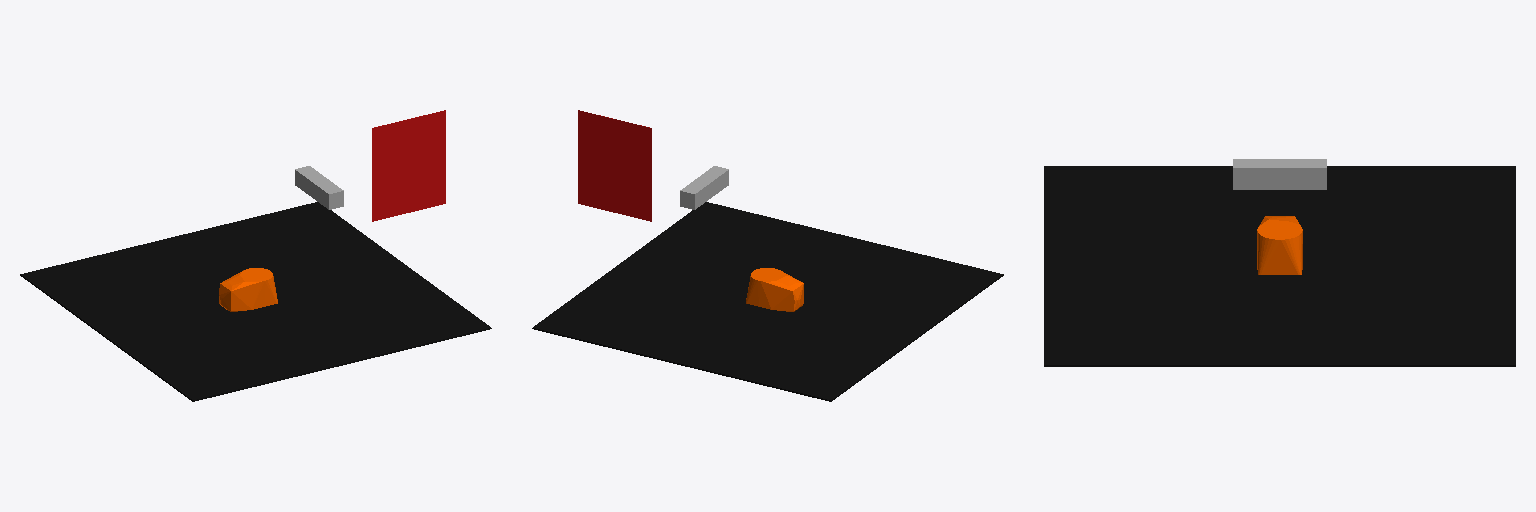
The robot description file, URDF, robot "irb_120_s":
<?xml version="1.0" ?>
<!-- =================================================================================== -->
<!-- |    This document was autogenerated by xacro from irb_120_s.xacro                | -->
<!-- |    EDITING THIS FILE BY HAND IS NOT RECOMMENDED                                 | -->
<!-- =================================================================================== -->
<robot name="irb_120_s" xmlns:xacro="http://ros.org/wiki/xacro">
  <link name="base_link">
    <visual>
      <origin rpy="0 0 0" xyz="0 0 0"/>
      <geometry>
        <mesh filename="package://abb_common/meshes/irb_120/visual/base_link.stl"/>
      </geometry>
      <material name="abb_orange">
        <color rgba="1 0.43 0 1"/>
      </material>
    </visual>
    <collision>
      <geometry>
        <mesh filename="package://abb_common/meshes/irb_120/collision/base_link.stl"/>
      </geometry>
      <material name="yellow">
        <color rgba="0 1 1 1"/>
      </material>
    </collision>
  </link>
  <link name="link_1">
    <visual>
      <origin rpy="0 0 0" xyz="0 0 0"/>
      <geometry>
        <mesh filename="package://abb_common/meshes/irb_120/visual/link_1.stl"/>
      </geometry>
      <material name="abb_orange"/>
    </visual>
    <collision>
      <origin rpy="0 0 0" xyz="0 0 0"/>
      <geometry>
        <mesh filename="package://abb_common/meshes/irb_120/collision/link_1.stl"/>
      </geometry>
      <material name="yellow"/>
    </collision>
  </link>
  <link name="link_2">
    <visual>
      <origin rpy="0 0 0" xyz="0 0 0"/>
      <geometry>
        <mesh filename="package://abb_common/meshes/irb_120/visual/link_2.stl"/>
      </geometry>
      <material name="abb_orange"/>
    </visual>
    <collision>
      <origin rpy="0 0 0" xyz="0 0 0"/>
      <geometry>
        <mesh filename="package://abb_common/meshes/irb_120/collision/link_2.stl"/>
      </geometry>
      <material name="yellow"/>
    </collision>
  </link>
  <link name="link_3">
    <visual>
      <origin rpy="0 0 0" xyz="0 0 0"/>
      <geometry>
        <mesh filename="package://abb_common/meshes/irb_120/visual/link_3.stl"/>
      </geometry>
      <material name="abb_orange"/>
    </visual>
    <collision>
      <origin rpy="0 0 0" xyz="0 0 0"/>
      <geometry>
        <mesh filename="package://abb_common/meshes/irb_120/collision/link_3.stl"/>
      </geometry>
      <material name="yellow"/>
    </collision>
  </link>
  <link name="link_4">
    <visual>
      <origin rpy="0 0 0" xyz="0 0 0"/>
      <geometry>
        <mesh filename="package://abb_common/meshes/irb_120/visual/link_4.stl"/>
      </geometry>
      <material name="abb_orange"/>
    </visual>
    <collision>
      <origin rpy="0 0 0" xyz="0 0 0"/>
      <geometry>
        <mesh filename="package://abb_common/meshes/irb_120/collision/link_4.stl"/>
      </geometry>
      <material name="yellow"/>
    </collision>
  </link>
  <link name="link_5">
    <visual>
      <origin rpy="0 0 0" xyz="0 0 0"/>
      <geometry>
        <mesh filename="package://abb_common/meshes/irb_120/visual/link_5.stl"/>
      </geometry>
      <material name="abb_orange"/>
    </visual>
    <collision>
      <origin rpy="0 0 0" xyz="0 0 0"/>
      <geometry>
        <mesh filename="package://abb_common/meshes/irb_120/collision/link_5.stl"/>
      </geometry>
      <material name="yellow"/>
    </collision>
  </link>
  <link name="link_6">
    <visual>
      <origin rpy="0 0 0" xyz="0 0 0"/>
      <geometry>
        <mesh filename="package://abb_common/meshes/irb_120/visual/link_6.stl"/>
      </geometry>
      <material name="abb_orange"/>
    </visual>
    <collision>
      <origin rpy="0 0 0" xyz="0 0 0"/>
      <geometry>
        <mesh filename="package://abb_common/meshes/irb_120/collision/link_6.stl"/>
      </geometry>
      <material name="yellow"/>
    </collision>
  </link>
  <link name="tool0"/>
  <joint name="joint_1" type="revolute">
    <origin rpy="0 0 0" xyz="0 0 0"/>
    <parent link="base_link"/>
    <child link="link_1"/>
    <axis xyz="0 0 1"/>
    <limit effort="0" lower="-3.1416" upper="3.1416" velocity="2.618"/>
    <calibration falling="0" rising="0"/>
    <dynamics damping="0" friction="0"/>
  </joint>
  <joint name="joint_2" type="revolute">
    <origin rpy="0 0 0" xyz="0 0 0.29"/>
    <parent link="link_1"/>
    <child link="link_2"/>
    <axis xyz="0 1 0"/>
    <limit effort="0" lower="-1.7453" upper="1.9199" velocity="2.618"/>
    <calibration falling="0" rising="0"/>
    <dynamics damping="0" friction="0"/>
  </joint>
  <joint name="joint_3" type="revolute">
    <origin rpy="0 0 0" xyz="0 0 0.27"/>
    <parent link="link_2"/>
    <child link="link_3"/>
    <axis xyz="0 1 0"/>
    <limit effort="0" lower="-1.0472" upper="1.1345" velocity="2.618"/>
    <calibration falling="0" rising="0"/>
    <dynamics damping="0" friction="0"/>
  </joint>
  <joint name="joint_4" type="revolute">
    <origin rpy="0 0 0" xyz="0 0 0.07"/>
    <parent link="link_3"/>
    <child link="link_4"/>
    <axis xyz="1 0 0"/>
    <limit effort="0" lower="-3.49" upper="3.49" velocity="6.2832"/>
    <calibration falling="0" rising="0"/>
    <dynamics damping="0" friction="0"/>
  </joint>
  <joint name="joint_5" type="revolute">
    <origin rpy="0 0 0" xyz="0.302 0 0"/>
    <parent link="link_4"/>
    <child link="link_5"/>
    <axis xyz="0 1 0"/>
    <limit effort="0" lower="-2.0944" upper="2.0944" velocity="6.2832"/>
    <calibration falling="0" rising="0"/>
    <dynamics damping="0" friction="0"/>
  </joint>
  <joint name="joint_6" type="revolute">
    <origin rpy="0 0 0" xyz="0.072 0 0"/>
    <parent link="link_5"/>
    <child link="link_6"/>
    <axis xyz="1 0 0"/>
    <limit effort="0" lower="-6.9813" upper="6.9813" velocity="7.854"/>
    <calibration falling="0" rising="0"/>
    <dynamics damping="0" friction="0"/>
  </joint>
  <joint name="joint_6-tool0" type="fixed">
    <parent link="link_6"/>
    <child link="tool0"/>
    <origin rpy="0 0 0" xyz="0 0 0"/>
  </joint>
  <link name="link_wp">
    <visual>
      <geometry>
        <box size="2 2 0.01"/>
      </geometry>
      <material name="black">
        <color rgba="0.1 0.1 0.1 1"/>
      </material>
      <origin xyz="0 0 0"/>
    </visual>
    <collision>
      <geometry>
        <box size="2 2 0.01"/>
      </geometry>
      <origin xyz="0 0 0"/>
    </collision>
  </link>
  <joint name="joint_wp2b" type="fixed">
    <parent link="link_wp"/>
    <child link="base_link"/>
    <origin xyz="0 0 0"/>
  </joint>
  <link name="link_scanner">
    <visual>
      <geometry>
        <box size="0.1 0.4 0.1"/>
      </geometry>
      <material name="silver">
        <color rgba="0.7 0.7 0.7 1"/>
      </material>
      <origin xyz="0 0 0"/>
    </visual>
    <collision>
      <geometry>
        <box size="0.1 0.4 0.1"/>
      </geometry>
      <origin xyz="0 0 0"/>
    </collision>
  </link>
  <link name="link_laserplate">
    <visual>
      <geometry>
        <box size="0.5 0.001 0.6"/>
      </geometry>
      <material name="red">
        <color rgba="0.8 0.1 0.1 0.3"/>
      </material>
      <origin xyz="0.6 0 0"/>
    </visual>
    <collision>
      <geometry>
        <box size="0.0001 0.0001 0.0001"/>
      </geometry>
      <origin xyz="0 0 0"/>
    </collision>
  </link>
  <joint name="joint_s2t" type="fixed">
    <parent link="tool0"/>
    <child link="link_scanner"/>
    <origin xyz="0.05 0 0"/>
  </joint>
  <joint name="joint_l2s" type="fixed">
    <parent link="link_scanner"/>
    <child link="link_laserplate"/>
    <origin xyz="0 0 0"/>
  </joint>
</robot>

--- Facts derived from the render (not from the file) ---
Views: 3 orthographic renders of the robot side by side, from view 1: azimuth 30°, elevation 25°; view 2: azimuth 150°, elevation 25°; view 3: azimuth 270°, elevation 25°.
Robot: irb_120_s — 11 links, 10 joints (6 revolute, 4 fixed); root link link_wp; default pose: all joints at 0.
Links seen in each view (by area): view 1: link_wp, link_laserplate, base_link, link_scanner; view 2: link_wp, link_laserplate, base_link, link_scanner; view 3: link_wp, link_scanner, base_link.
Link boxes in pixels (<box>): link_wp: <box>20,202,491,401</box>; link_laserplate: <box>372,110,445,221</box>; base_link: <box>219,268,277,311</box>; link_scanner: <box>295,166,343,209</box>; link_wp: <box>532,202,1003,401</box>; link_laserplate: <box>578,110,651,221</box>; base_link: <box>746,268,803,311</box>; link_scanner: <box>680,166,728,209</box>; link_wp: <box>1044,166,1515,366</box>; link_scanner: <box>1233,159,1326,189</box>; base_link: <box>1257,216,1302,274</box>.
Bounding box of the posed robot: 2.27 × 2 × 0.9362 m (x, y, z).
Meshes: 7 distinct files referenced, 1 mesh visuals loaded (1 binary STL); not drawn: 6 (reference not matched to a file when rendering).